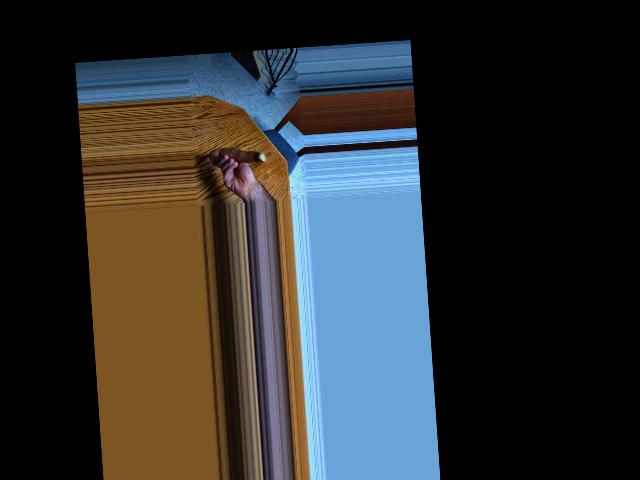sweet_potato: (208, 143, 264, 171)
